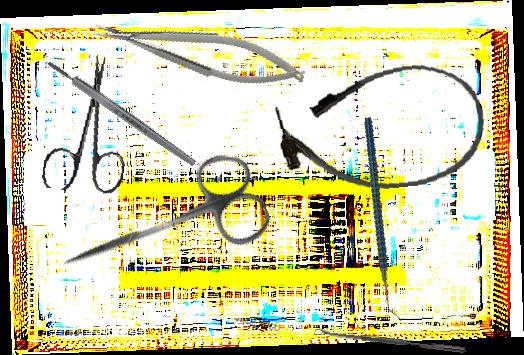Cannula: (271, 58, 492, 200)
Chopper: (322, 116, 445, 323)
Iris Scissors: (47, 144, 277, 311), (40, 50, 140, 198)
Needle Holder: (90, 1, 310, 101)
Scalpel Handle: (45, 58, 198, 169)
Surgical Spoon: (314, 327, 468, 354)
